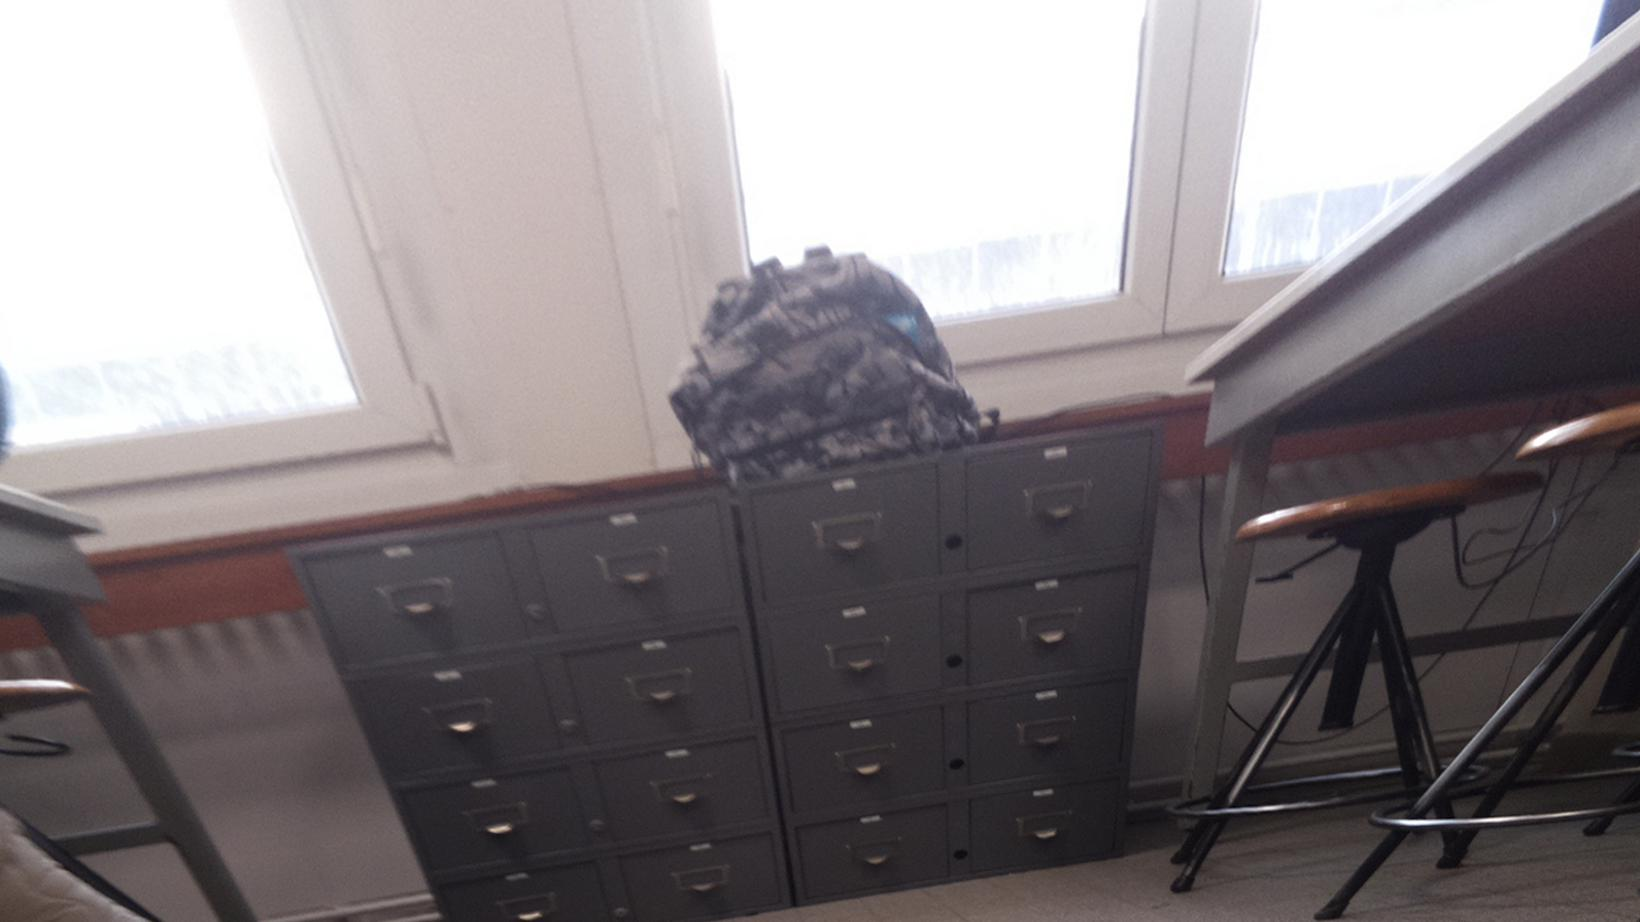big: (677, 259, 969, 458)
